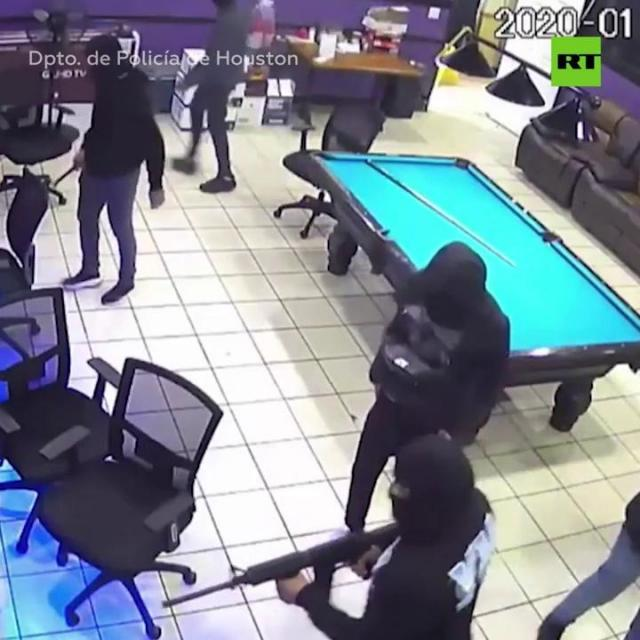weapon: (152, 518, 396, 630)
